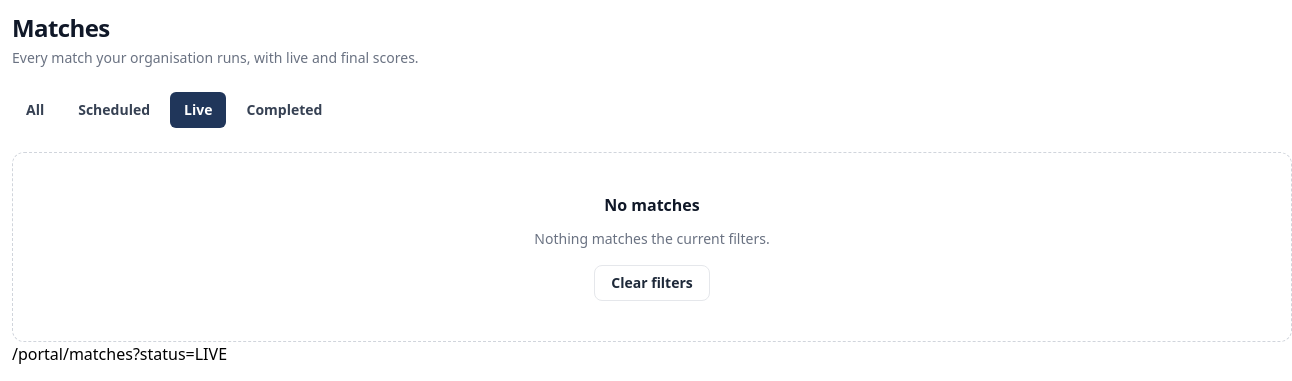
Test: PortalMatches › says nothing matches a filter, distinct from empty, and clears it
Expected: the heading "No matches" is shown, 604,193 -> 700,217
Step 1. Click the button "Clear filters" → (652, 283), box 594,265 -> 710,301
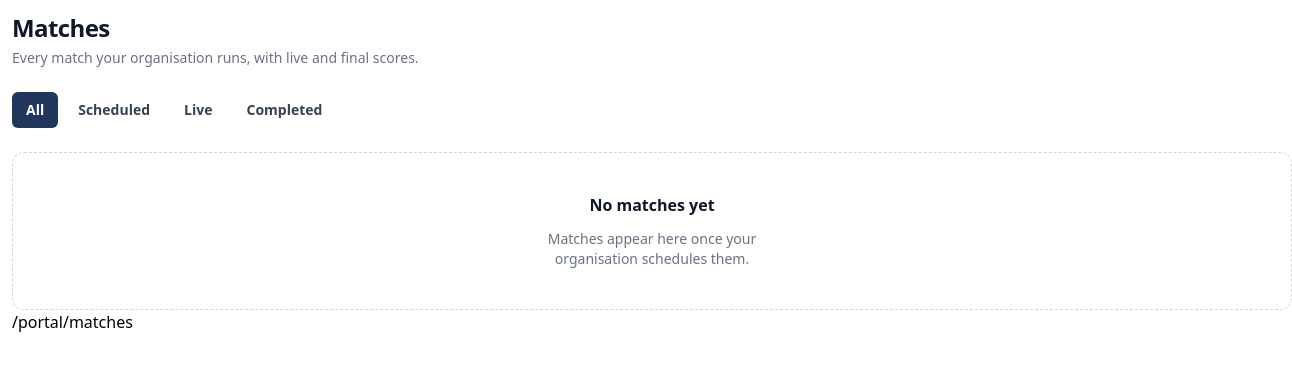
Expected: the text with test id "where" reads "/portal/matches", 12,311 -> 133,333
